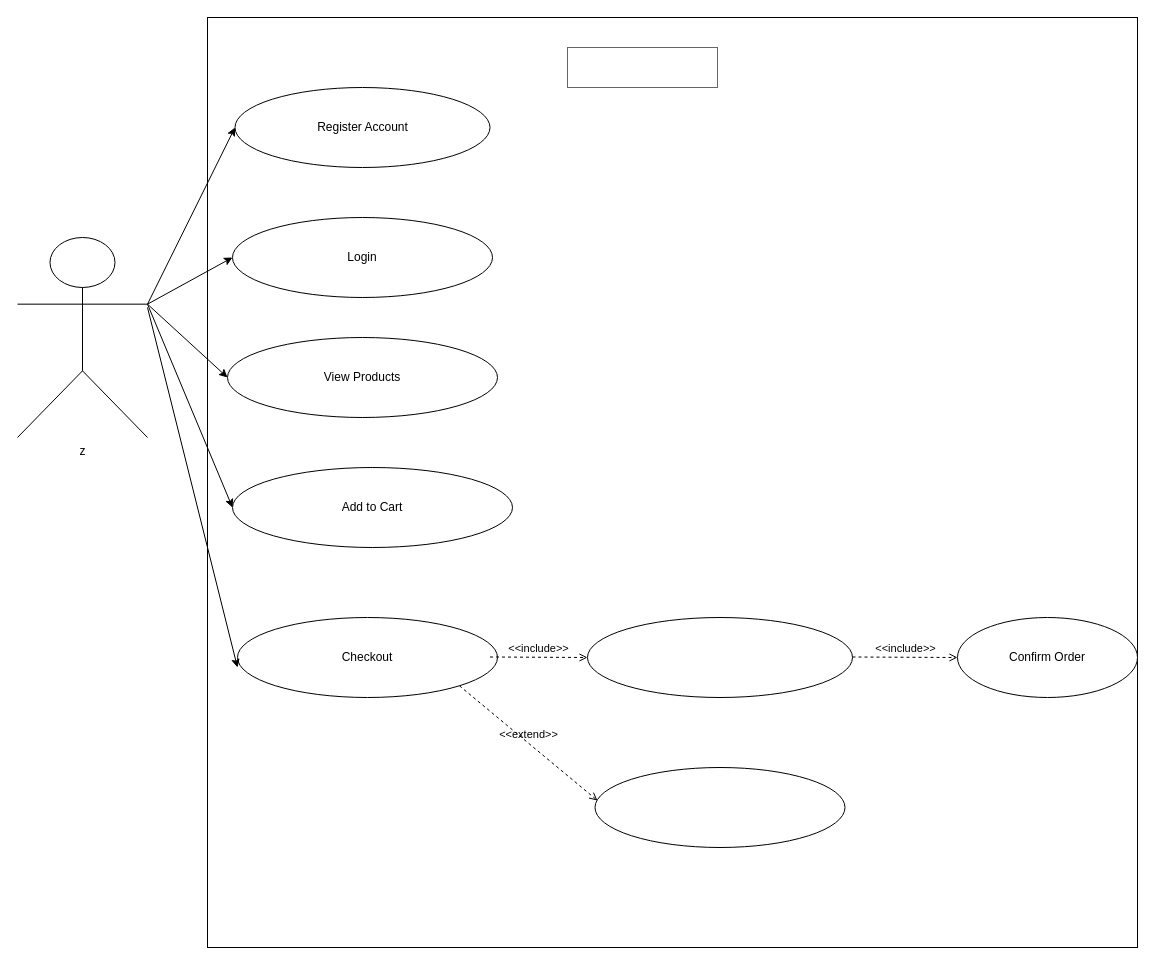
Some shapes in this 1155 by 965 pixel diagram are drawn without their labels. Each missing label, with the centre of its shape:
Apply Discount: (719,807)
Make Payment: (719,657)
Online Shopping System: (642,67)
